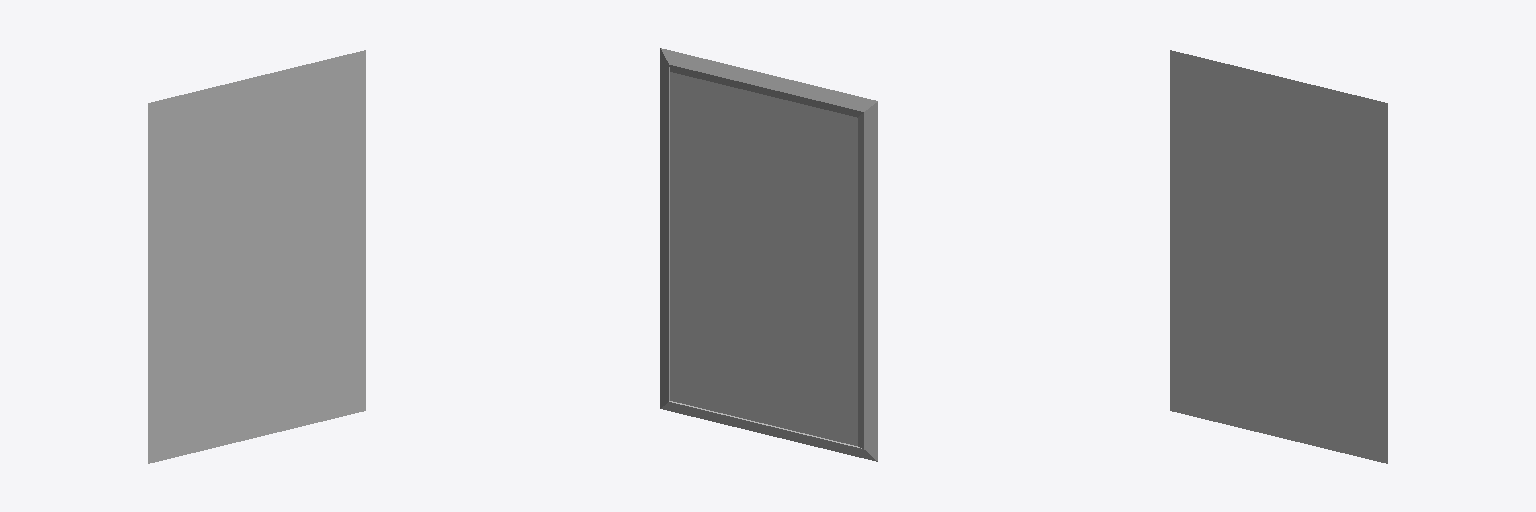
The model's file is UI_Panel.obj.
3 renders of one model, left to right at view 1: azimuth 30°, elevation 25°; view 2: azimuth 150°, elevation 25°; view 3: azimuth 330°, elevation 25°, orthographic.
Parts seen in each view (by area): view 1: UI_Panel_Cube; view 2: UI_Panel_Cube; view 3: UI_Panel_Cube.
Boxes of the visible parts, box(x1,y1,x2,y2) form: UI_Panel_Cube: box(148, 50, 365, 463); UI_Panel_Cube: box(660, 48, 877, 461); UI_Panel_Cube: box(1170, 50, 1387, 463).
Size of the model in its own units: 9.6 by 15.2 by 0.2.